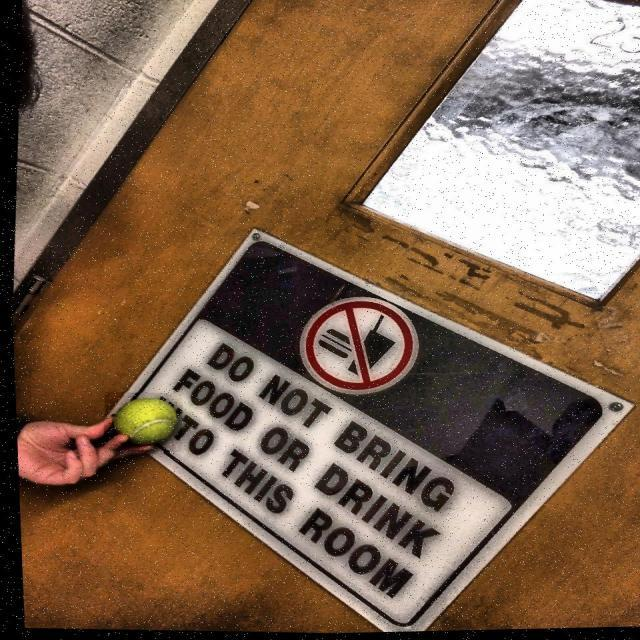tennis-ball: (98, 392, 182, 456)
